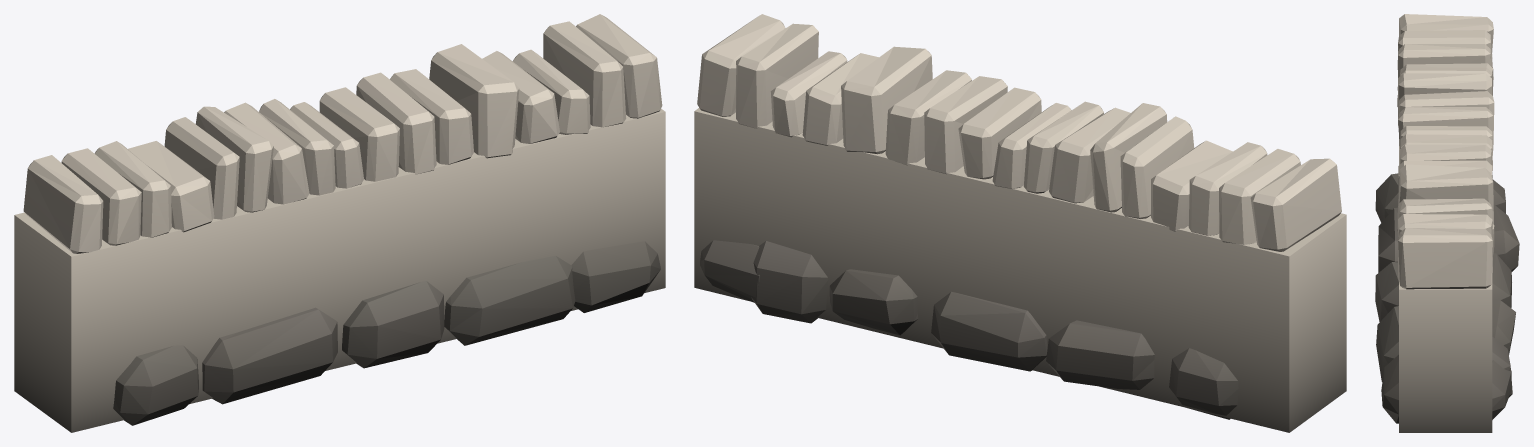
Rendered from SM_VK_LowWall.fbx.
3 views of the same model, side by side, from view 1: azimuth 30°, elevation 25°; view 2: azimuth 150°, elevation 25°; view 3: azimuth 270°, elevation 25° (orthographic). The views are drawn at different scales.
Parts seen in each view (by area): view 1: SM_VK_LowWall.001; view 2: SM_VK_LowWall.001; view 3: SM_VK_LowWall.001.
Part boxes in pixels (x1,y1,x2,y2): SM_VK_LowWall.001: (14, 14, 665, 432); SM_VK_LowWall.001: (694, 14, 1346, 432); SM_VK_LowWall.001: (1375, 14, 1519, 432).
Bounding box in the file's own units: 3.01 × 1.21 × 0.7749.
